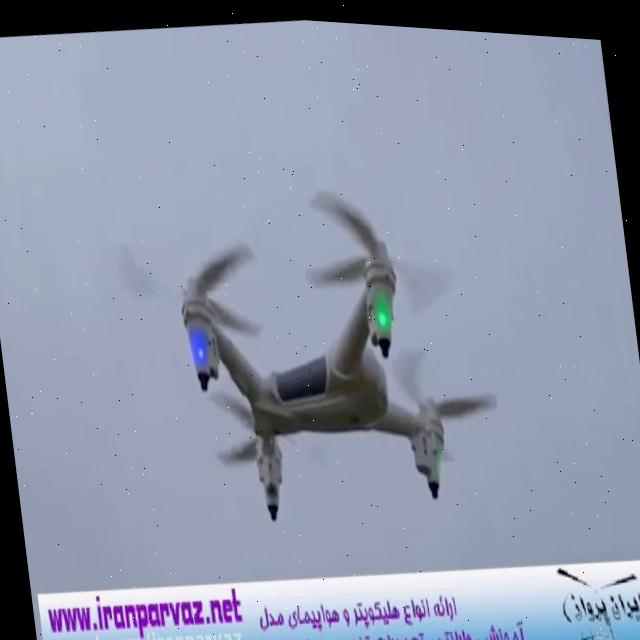drone: (96, 144, 516, 551)
